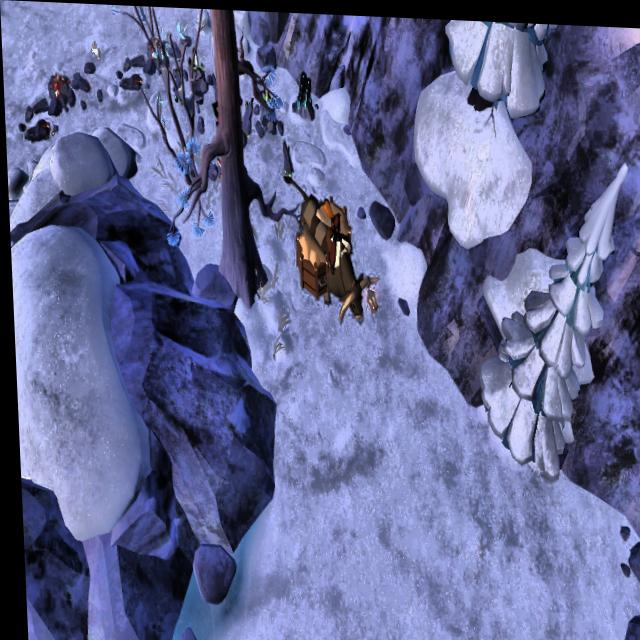ore_t4: (294, 70, 311, 112)
